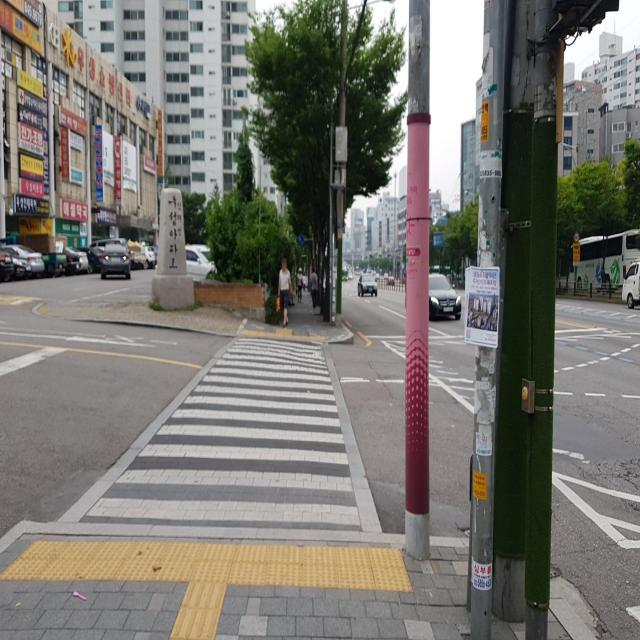횡단보도: (84, 334, 362, 530)
